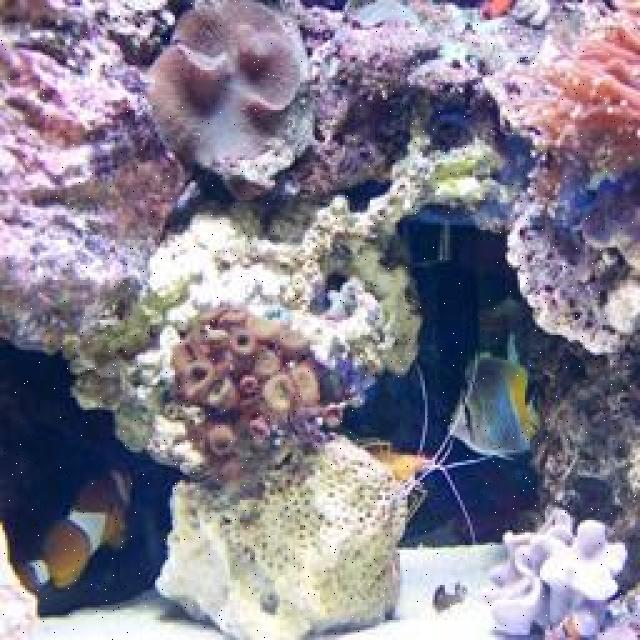fish: (12, 467, 138, 591), (447, 353, 540, 456)
reefs: (0, 0, 638, 361), (71, 96, 522, 496), (478, 501, 632, 638)
